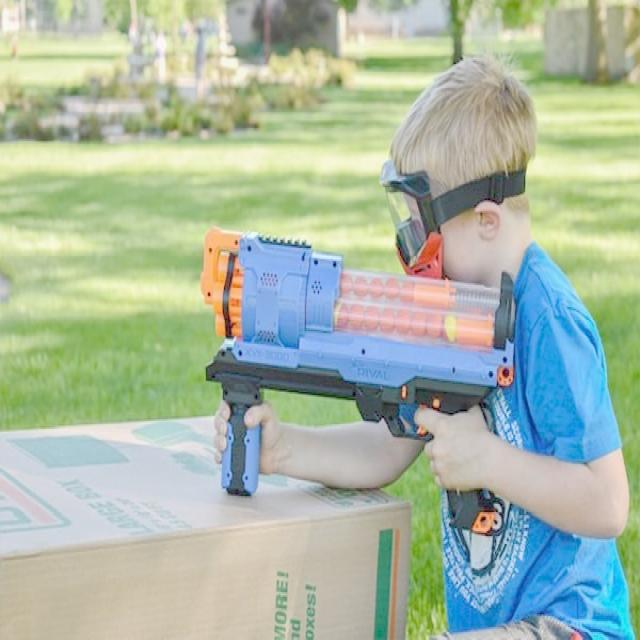Nerf gun: (194, 215, 516, 548)
